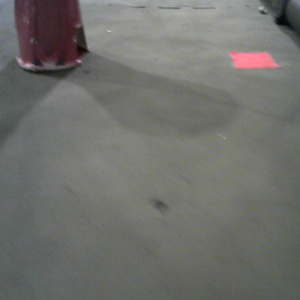Middle: (11, 1, 89, 73)
